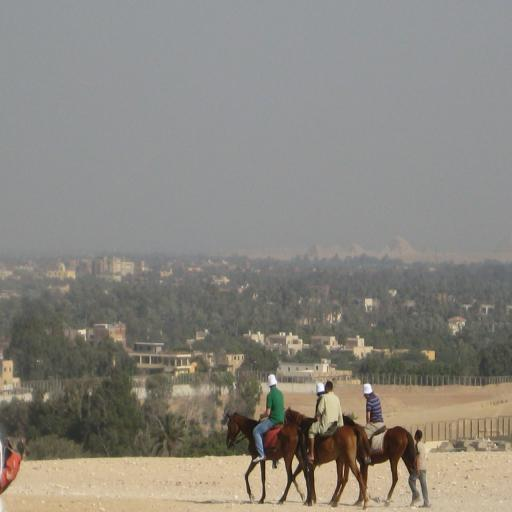horse: (328, 412, 416, 508), (286, 406, 366, 510), (225, 411, 305, 505)
